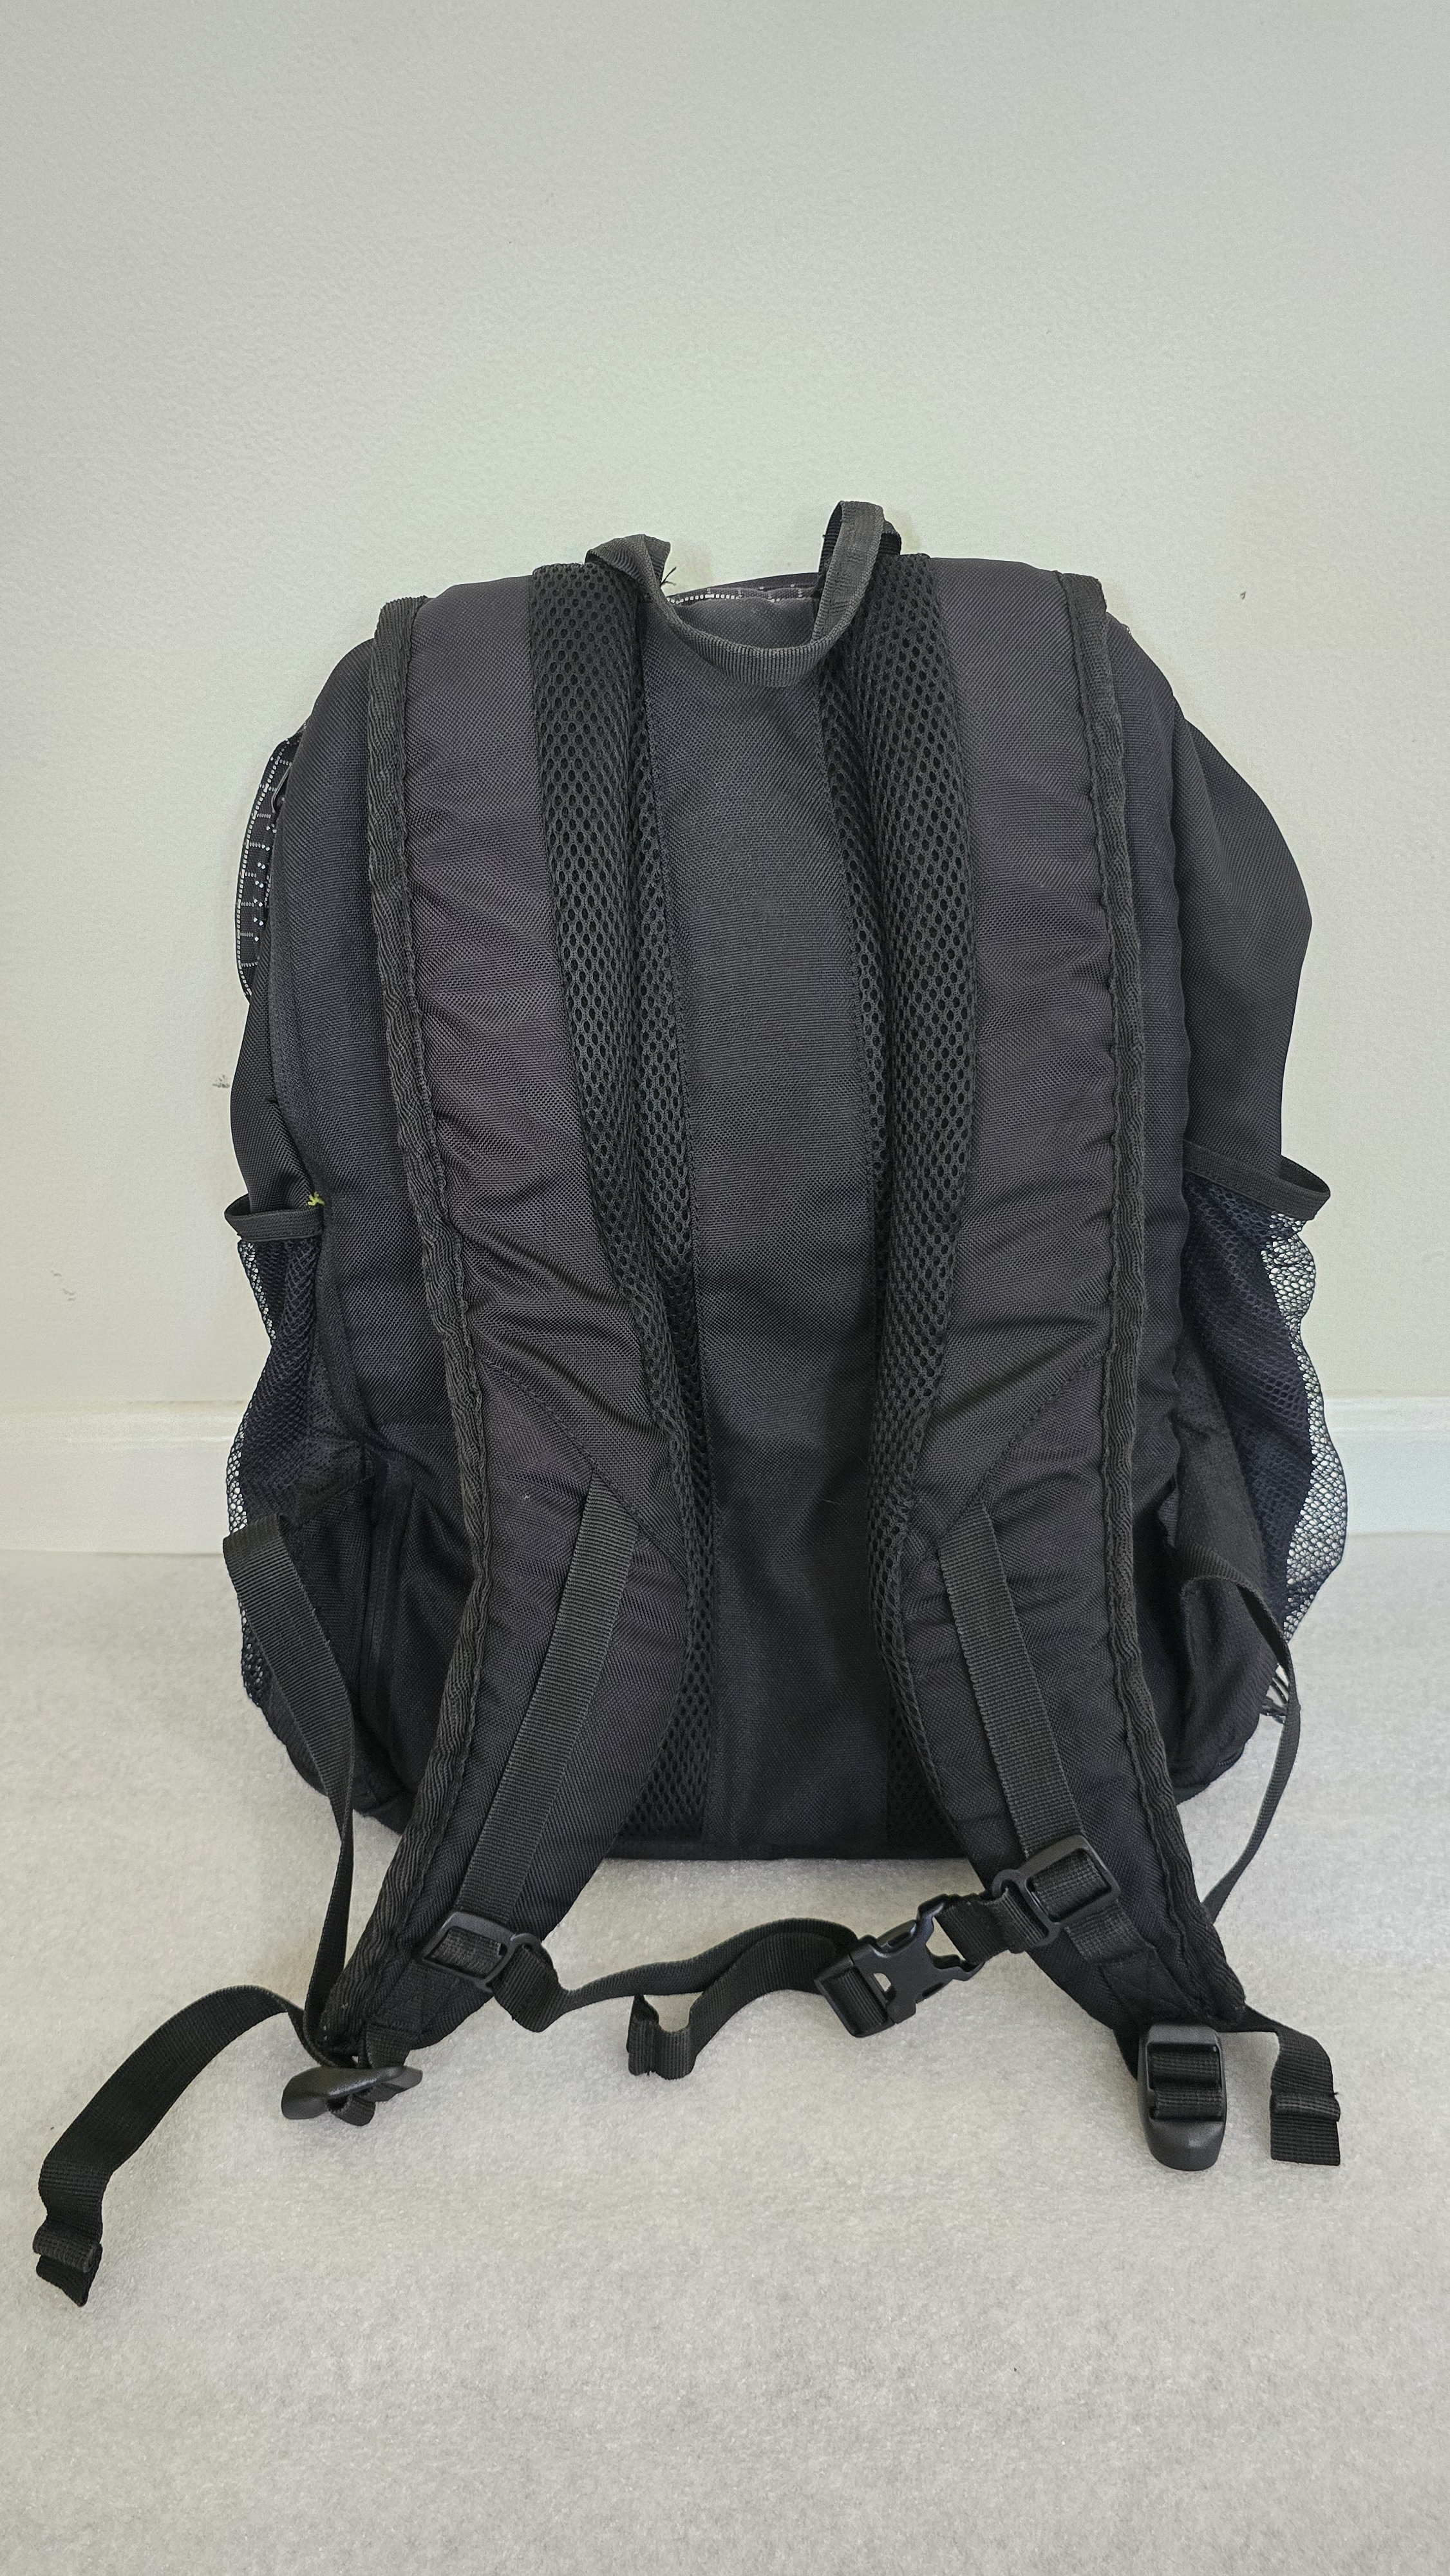bag: (237, 525, 1347, 1932)
